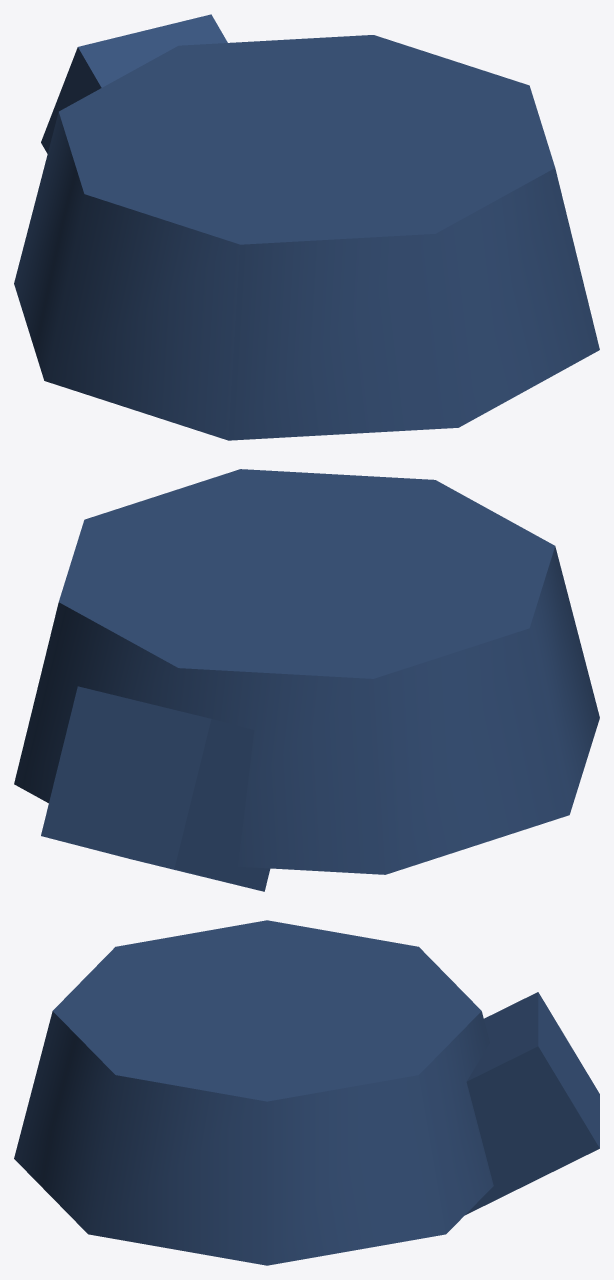
The model's file is hat_sailor.glb.
3 renders of one model, top to bottom at view 1: azimuth 30°, elevation 25°; view 2: azimuth 150°, elevation 25°; view 3: azimuth 270°, elevation 25°, orthographic. The views are drawn at different scales.
Visible parts, largest first — view 1: hat_sailor; view 2: hat_sailor; view 3: hat_sailor.
Part boxes in pixels (box(x1,y1,x2,y2)): hat_sailor: box(14, 14, 599, 440); hat_sailor: box(14, 469, 599, 891); hat_sailor: box(14, 920, 599, 1265).
Bounding box in the file's own units: 0.1593 × 0.0642 × 0.1843.
